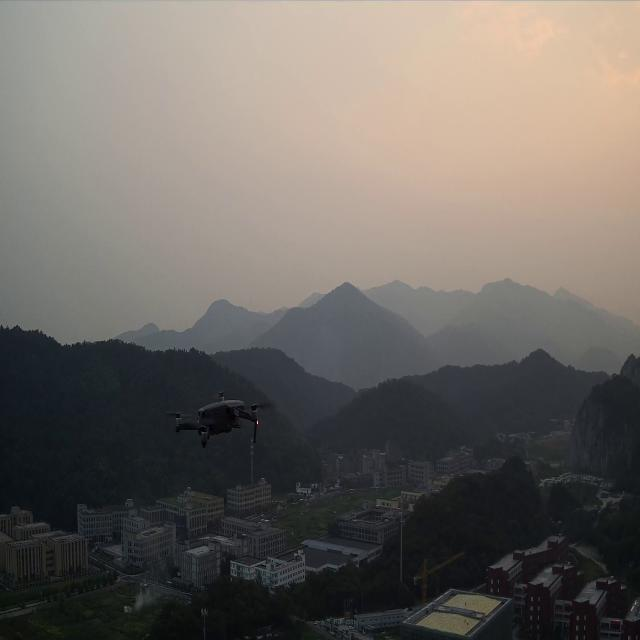UAV: (174, 386, 260, 449)
